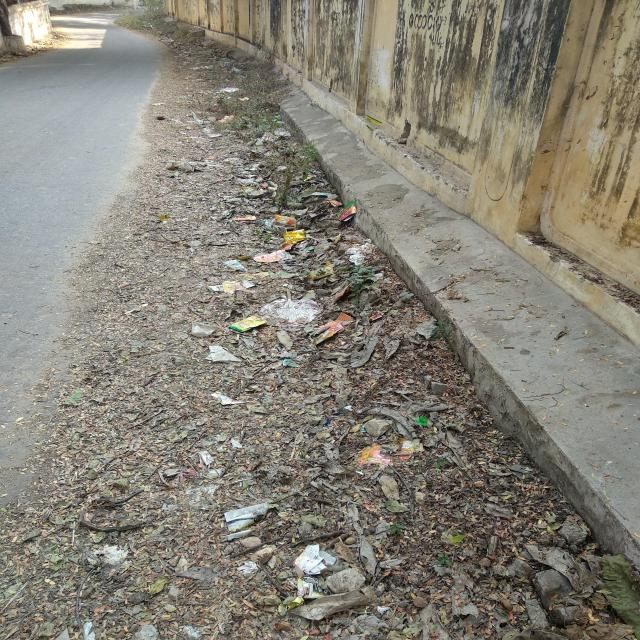litter: (224, 311, 268, 334), (283, 228, 309, 245)
